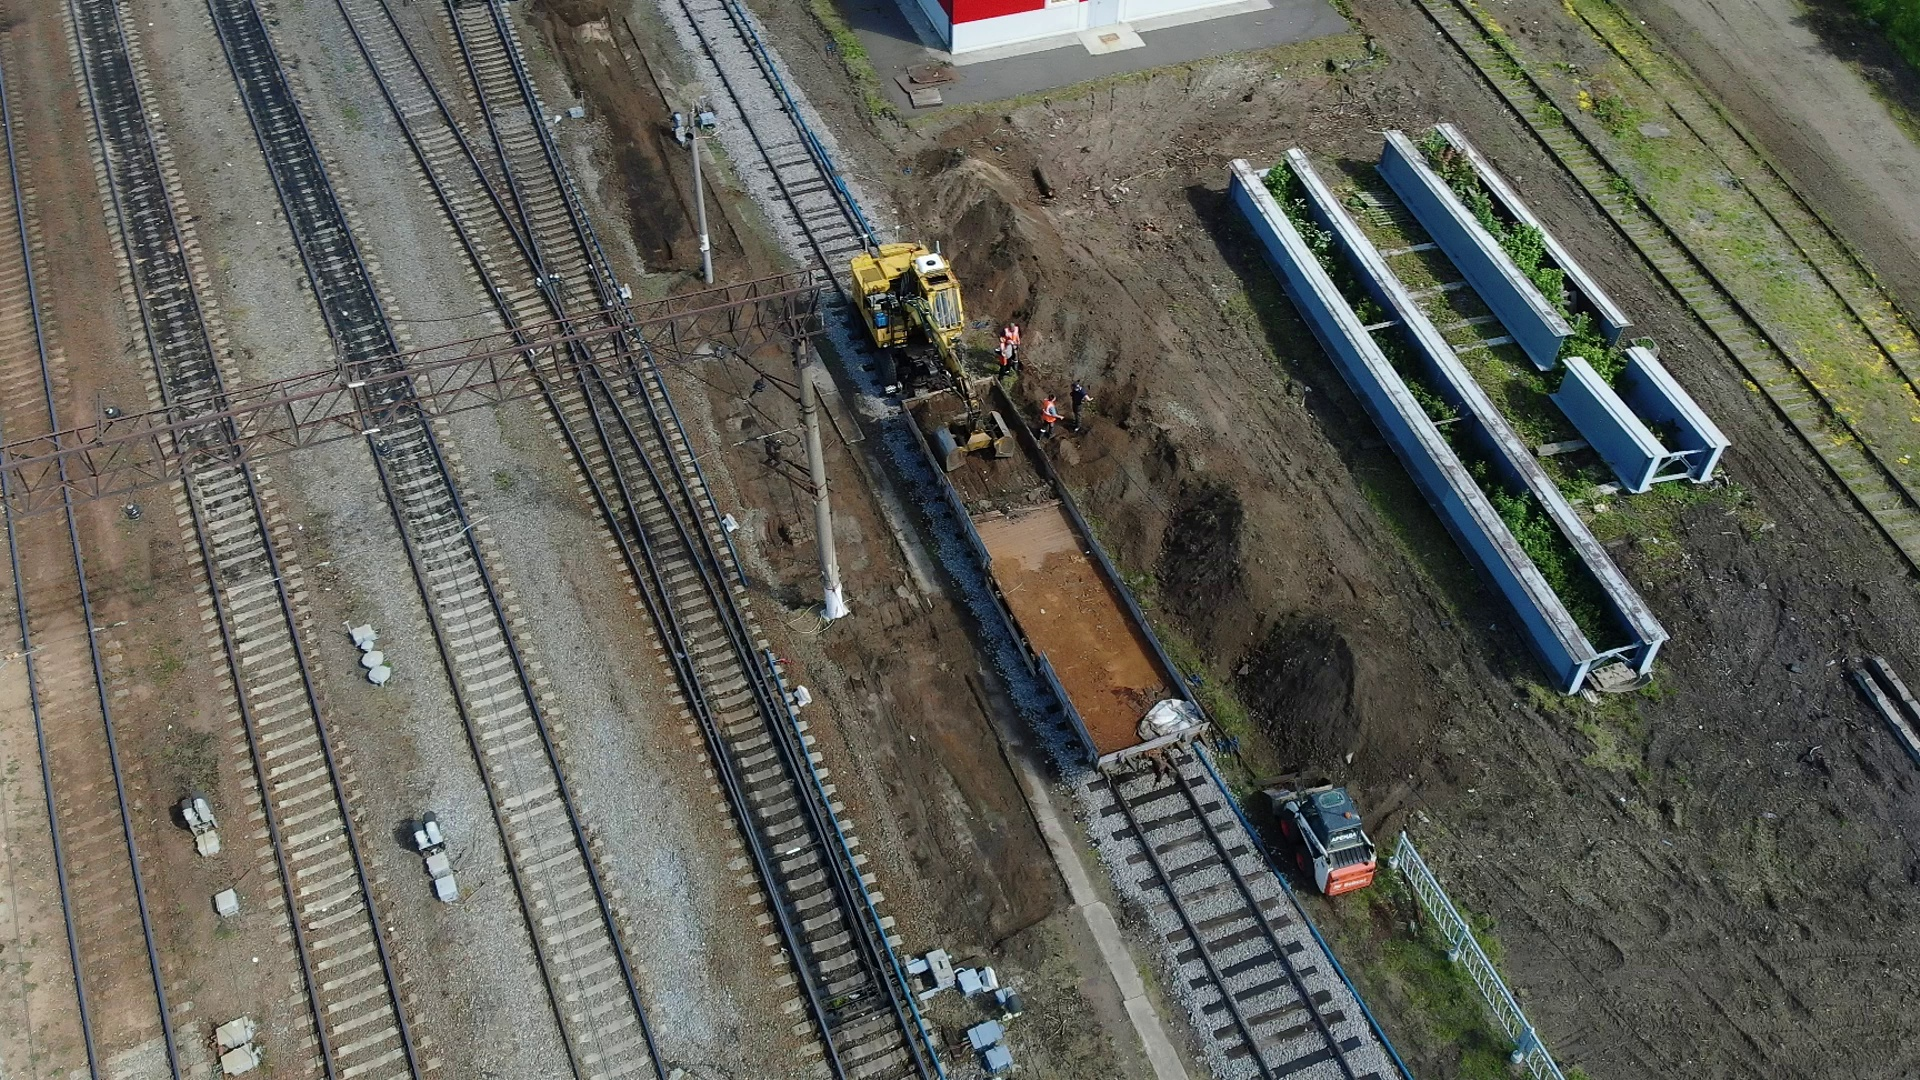kjtv: (846, 247, 960, 376)
